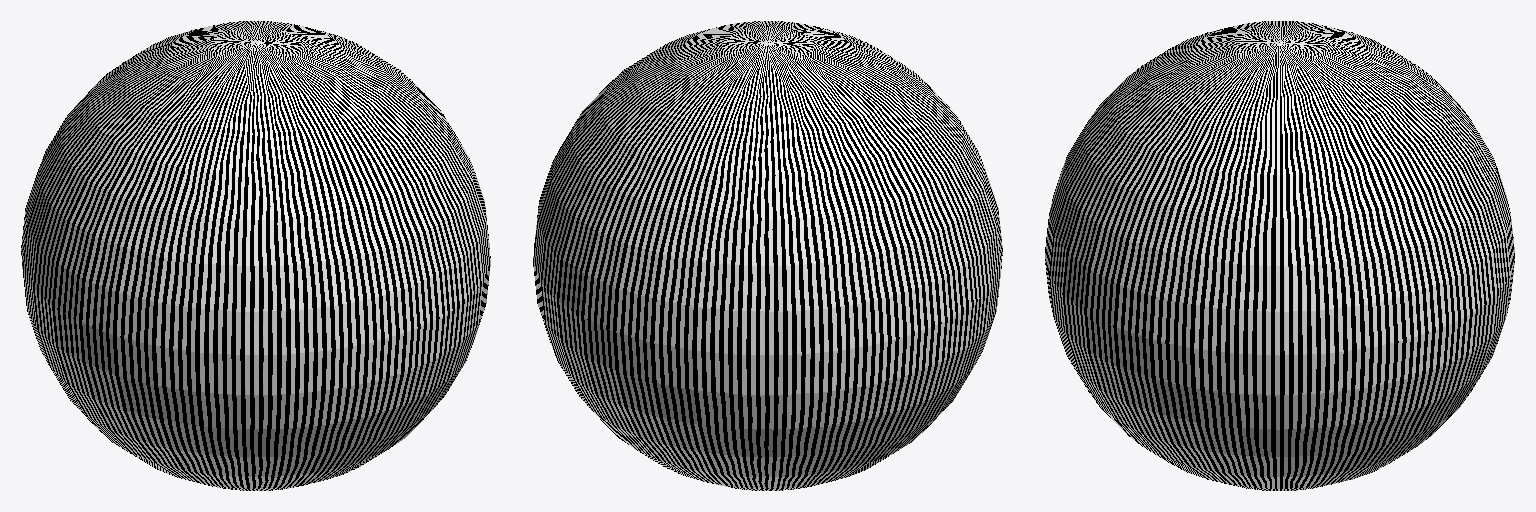
3 renders of one model, left to right at view 1: azimuth 30°, elevation 25°; view 2: azimuth 150°, elevation 25°; view 3: azimuth 270°, elevation 25°, orthographic.
Parts seen in each view (by area): view 1: Sphere; view 2: Sphere; view 3: Sphere.
Boxes of the visible parts, box(x1,y1,x2,y2) form: Sphere: box(21, 21, 490, 490); Sphere: box(533, 21, 1002, 490); Sphere: box(1045, 21, 1514, 490).
Bounding box in the file's own units: 3.78 × 3.78 × 3.78.
1 materials, 1 textured.